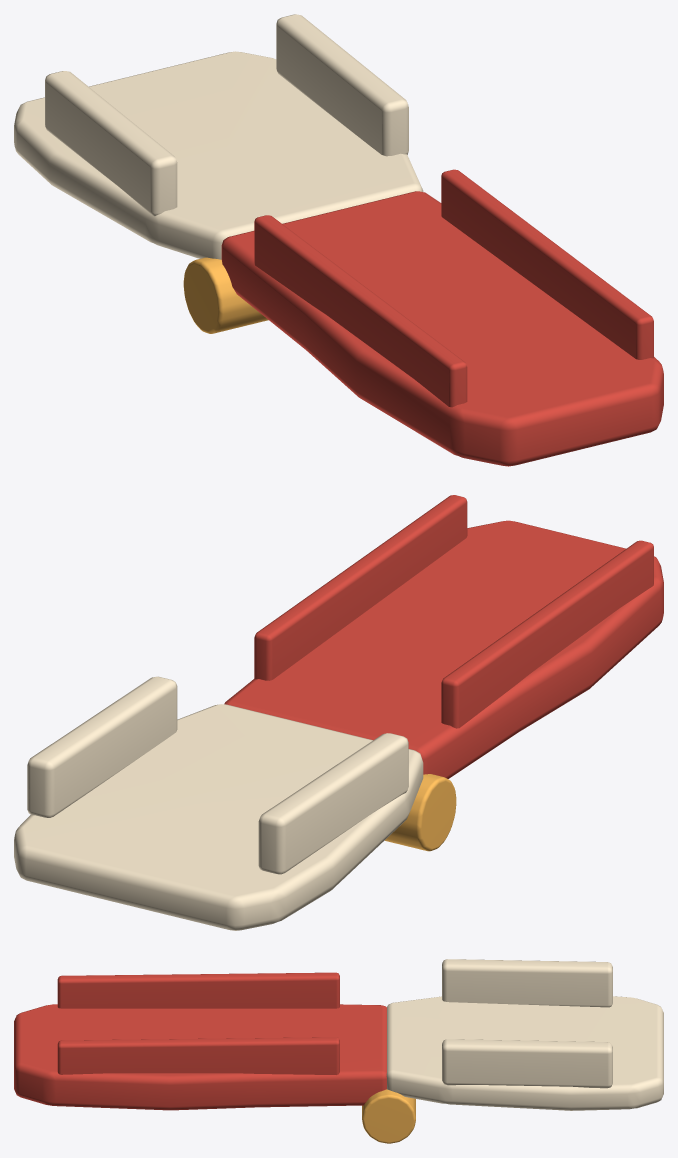
File: A11_Spatula.fbx
The picture shows the model from 3 angles, top to bottom: view 1: azimuth 30°, elevation 25°; view 2: azimuth 150°, elevation 25°; view 3: azimuth 270°, elevation 25°; orthographic projection. The views are drawn at different scales.
Parts seen in each view (by area): view 1: Tomato moulded grip, Vanilla paddle, Grip guard -0.042, Grip guard 0.042, Paddle guard -0.052, Paddle guard 0.052, Fulcrum sleeve; view 2: Vanilla paddle, Tomato moulded grip, Grip guard -0.042, Grip guard 0.042, Paddle guard -0.052, Paddle guard 0.052, Fulcrum sleeve; view 3: Tomato moulded grip, Vanilla paddle, Grip guard 0.042, Grip guard -0.042, Paddle guard 0.052, Paddle guard -0.052, Fulcrum sleeve.
Boxes of the visible parts, x1=… form: Tomato moulded grip: x1=221, y1=191, x2=663, y2=466; Vanilla paddle: x1=14, y1=51, x2=423, y2=259; Grip guard -0.042: x1=254, y1=215, x2=467, y2=407; Grip guard 0.042: x1=441, y1=169, x2=653, y2=359; Paddle guard -0.052: x1=45, y1=71, x2=177, y2=216; Paddle guard 0.052: x1=276, y1=14, x2=408, y2=156; Fulcrum sleeve: x1=183, y1=257, x2=268, y2=333; Vanilla paddle: x1=14, y1=704, x2=423, y2=930; Tomato moulded grip: x1=224, y1=520, x2=663, y2=778; Grip guard -0.042: x1=441, y1=540, x2=653, y2=728; Grip guard 0.042: x1=254, y1=495, x2=467, y2=680; Paddle guard -0.052: x1=258, y1=733, x2=408, y2=874; Paddle guard 0.052: x1=27, y1=676, x2=177, y2=817; Fulcrum sleeve: x1=385, y1=774, x2=456, y2=851; Tomato moulded grip: x1=14, y1=1004, x2=386, y2=1110; Vanilla paddle: x1=386, y1=996, x2=663, y2=1110; Grip guard 0.042: x1=57, y1=1037, x2=339, y2=1074; Grip guard -0.042: x1=57, y1=972, x2=339, y2=1008; Paddle guard 0.052: x1=442, y1=1039, x2=612, y2=1088; Paddle guard -0.052: x1=442, y1=959, x2=612, y2=1007; Fulcrum sleeve: x1=362, y1=1089, x2=415, y2=1143.
Size of what is drawn, in the model's own units: 0.128 by 0.0618 by 0.357.
